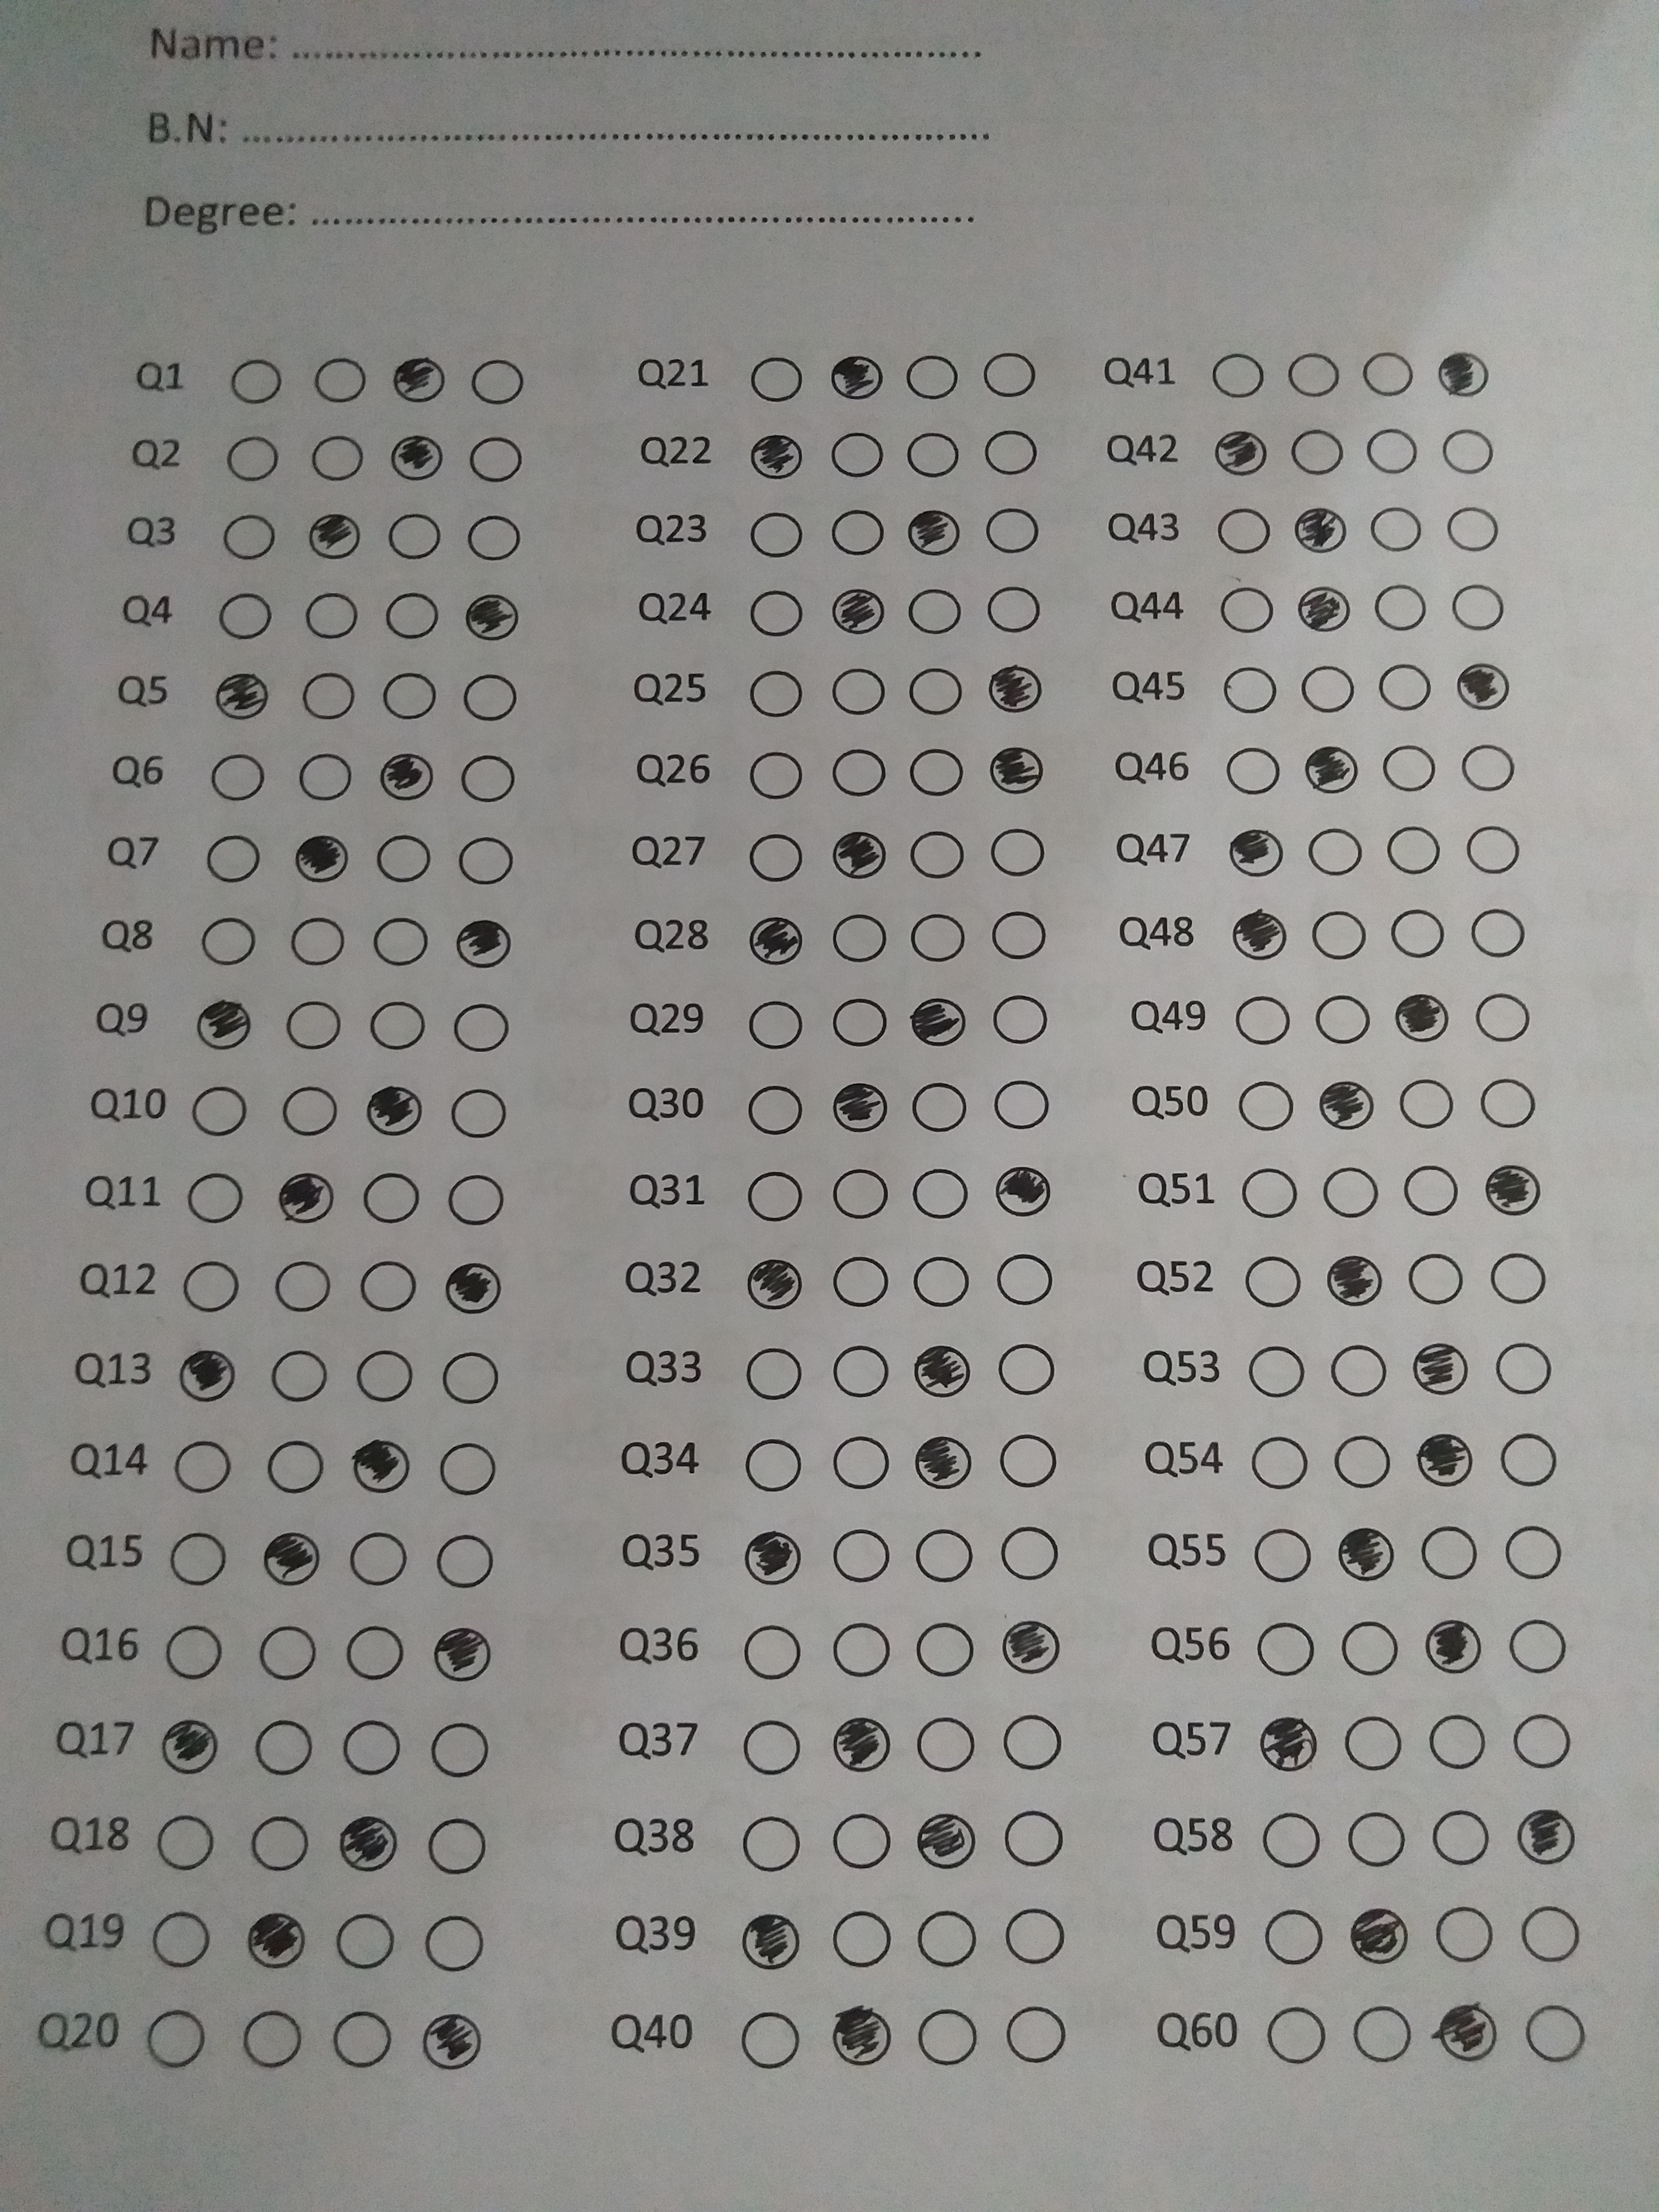not-c: (247, 1618, 326, 1696), (340, 1522, 415, 1597), (234, 2003, 310, 2076), (997, 1808, 1073, 1881), (821, 1808, 896, 1881), (823, 1904, 899, 1975), (413, 1909, 491, 1979), (427, 1526, 500, 1599), (265, 1249, 342, 1318), (425, 1710, 493, 1789), (420, 1815, 491, 1888), (906, 1618, 979, 1689), (186, 1076, 261, 1146), (990, 1426, 1066, 1494), (1425, 1904, 1502, 1972), (995, 1902, 1073, 1968), (326, 2005, 397, 2076), (164, 1526, 234, 1599), (153, 1620, 227, 1689), (988, 1336, 1065, 1402), (349, 1348, 429, 1411), (159, 1439, 240, 1500), (181, 1167, 254, 1235), (995, 1710, 1068, 1778), (1338, 1808, 1412, 1876), (737, 2001, 802, 2078), (247, 1714, 319, 1782), (742, 1076, 810, 1148), (1326, 1334, 1394, 1406), (174, 1254, 247, 1320), (1263, 2000, 1330, 2073), (1255, 1810, 1328, 1876), (1249, 1616, 1323, 1683), (734, 1437, 812, 1498), (829, 1529, 908, 1590), (355, 1252, 425, 1320), (150, 1808, 220, 1876), (143, 2006, 211, 2076), (908, 1716, 978, 1784), (1330, 1426, 1399, 1494), (828, 1620, 899, 1686), (1516, 1900, 1588, 1966), (275, 995, 349, 1059), (737, 1162, 810, 1226), (342, 1616, 404, 1691), (263, 1433, 333, 1500), (329, 1909, 399, 1975), (828, 1428, 897, 1494), (915, 2003, 981, 2073), (1429, 1803, 1493, 1874), (261, 1345, 335, 1407), (1251, 1524, 1324, 1587), (826, 1249, 892, 1317), (997, 1521, 1065, 1587), (739, 1622, 807, 1688), (1260, 1904, 1326, 1972), (1425, 1709, 1493, 1775), (1413, 1521, 1481, 1587), (439, 1169, 509, 1233), (737, 1717, 807, 1782), (361, 996, 432, 1059), (279, 916, 359, 972), (910, 1527, 983, 1588), (896, 662, 971, 721), (1481, 1249, 1556, 1308), (150, 1907, 216, 1973), (1351, 1998, 1417, 2064), (915, 1902, 978, 1972), (1335, 1616, 1405, 1679), (734, 1815, 807, 1874), (1364, 580, 1438, 639), (214, 582, 281, 646), (272, 1076, 338, 1141), (974, 345, 1042, 408), (742, 996, 810, 1059), (826, 1169, 894, 1231), (354, 1169, 423, 1230), (451, 833, 523, 892), (1499, 1524, 1570, 1583), (443, 1083, 516, 1141), (903, 742, 967, 806), (1511, 1709, 1575, 1773), (249, 1810, 312, 1876), (458, 509, 528, 568), (448, 998, 518, 1057), (986, 904, 1056, 963), (1335, 1712, 1405, 1771), (1375, 738, 1445, 798), (439, 1350, 511, 1407), (340, 1716, 404, 1778), (988, 988, 1053, 1050), (1004, 2006, 1068, 2069), (1246, 1432, 1310, 1494), (1243, 1249, 1305, 1313), (436, 1440, 502, 1501), (983, 580, 1049, 641), (826, 909, 892, 970), (826, 995, 892, 1055), (1319, 1162, 1385, 1223), (1303, 904, 1370, 965), (1297, 660, 1364, 719), (976, 502, 1046, 559), (990, 1254, 1060, 1312), (826, 1343, 896, 1400), (1504, 1618, 1574, 1676), (371, 667, 443, 723), (305, 427, 369, 488), (829, 421, 894, 482), (910, 1254, 974, 1315), (1525, 2003, 1589, 2064), (1403, 1249, 1467, 1310), (293, 664, 359, 723), (458, 669, 525, 728), (901, 582, 967, 641), (378, 509, 446, 566), (899, 427, 967, 484), (1460, 820, 1528, 878), (1457, 740, 1527, 796), (458, 745, 521, 806), (1493, 1338, 1556, 1399), (462, 428, 526, 488), (826, 660, 890, 719), (1474, 1076, 1542, 1132), (192, 918, 267, 968), (1239, 1163, 1300, 1224), (985, 822, 1047, 881), (1497, 1430, 1560, 1489), (1399, 1160, 1462, 1219), (293, 747, 357, 805), (826, 502, 890, 559), (1236, 1078, 1300, 1136), (1302, 824, 1366, 881), (469, 355, 535, 411), (742, 1346, 809, 1402), (1232, 995, 1300, 1049), (1380, 826, 1448, 880), (307, 355, 376, 408), (913, 1082, 974, 1141), (1223, 742, 1284, 801), (371, 911, 429, 974), (828, 747, 890, 805), (1385, 907, 1450, 963), (1446, 580, 1511, 636), (227, 355, 286, 415), (383, 587, 444, 644), (746, 749, 807, 806), (908, 911, 971, 967), (993, 1075, 1049, 1137), (1286, 421, 1349, 477), (1310, 996, 1375, 1050), (1373, 662, 1438, 716), (1364, 421, 1422, 481), (1215, 582, 1276, 637), (1438, 421, 1499, 477), (207, 751, 270, 805), (746, 352, 809, 406), (746, 587, 809, 641), (744, 665, 807, 719), (904, 826, 969, 878), (1246, 1343, 1310, 1395), (221, 512, 281, 568), (1471, 906, 1530, 961), (981, 427, 1042, 481), (746, 831, 807, 885), (1209, 350, 1270, 404), (1220, 664, 1283, 716), (911, 1169, 967, 1226), (303, 587, 362, 641), (1396, 1078, 1457, 1130), (221, 434, 284, 484), (1216, 507, 1272, 563), (749, 507, 807, 561), (1474, 989, 1532, 1043), (1356, 352, 1424, 397), (200, 833, 265, 878), (903, 352, 962, 401), (1446, 502, 1502, 552), (1286, 350, 1342, 401), (1366, 505, 1424, 554), (375, 833, 430, 880)
taken-c: (915, 1806, 978, 1872), (833, 2000, 894, 2067), (244, 1907, 307, 1972), (1347, 1904, 1410, 1966), (1516, 1804, 1579, 1867), (1256, 1712, 1319, 1775), (999, 1615, 1063, 1676), (831, 1710, 892, 1775), (1439, 1998, 1499, 2064), (350, 1433, 411, 1496), (338, 1811, 399, 1874), (422, 2012, 483, 2074), (741, 1909, 803, 1970), (261, 1527, 322, 1588), (911, 1432, 972, 1493), (742, 1526, 803, 1587), (992, 1160, 1054, 1219), (1422, 1618, 1485, 1677), (364, 1080, 425, 1139), (160, 1716, 220, 1777), (432, 1625, 491, 1684), (1338, 1526, 1398, 1585), (1324, 1249, 1384, 1308), (275, 1169, 336, 1226), (1415, 1432, 1476, 1489), (195, 995, 254, 1052), (746, 1256, 805, 1313), (1392, 989, 1452, 1047), (443, 1259, 504, 1315), (176, 1348, 237, 1404), (1485, 1160, 1542, 1217), (829, 826, 889, 881), (744, 911, 803, 967), (908, 993, 967, 1049), (913, 1343, 972, 1399), (1412, 1341, 1471, 1397), (1229, 909, 1290, 963), (1225, 826, 1286, 880), (831, 1080, 889, 1136), (1317, 1078, 1375, 1134), (378, 749, 437, 803), (295, 833, 354, 887), (455, 916, 514, 970), (828, 582, 887, 636), (986, 662, 1046, 716), (988, 742, 1046, 796), (1302, 742, 1359, 796), (216, 667, 272, 721), (1436, 347, 1492, 401), (464, 590, 521, 643), (1213, 427, 1270, 479), (394, 352, 448, 406), (1455, 660, 1511, 712), (828, 352, 885, 402), (748, 430, 805, 481), (389, 432, 444, 482), (906, 507, 962, 557), (1297, 583, 1352, 634), (308, 510, 362, 561), (1295, 505, 1347, 556)
